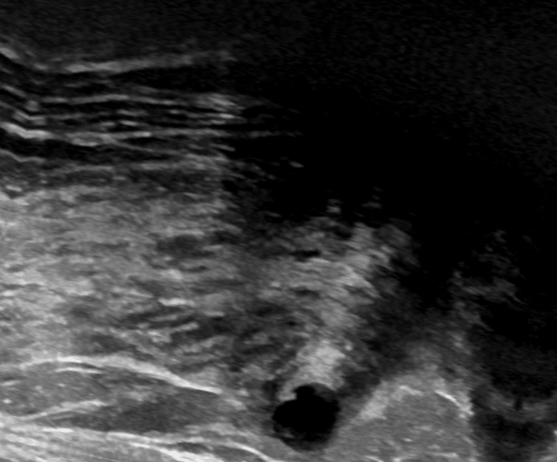Benign: (270, 379, 345, 453)
